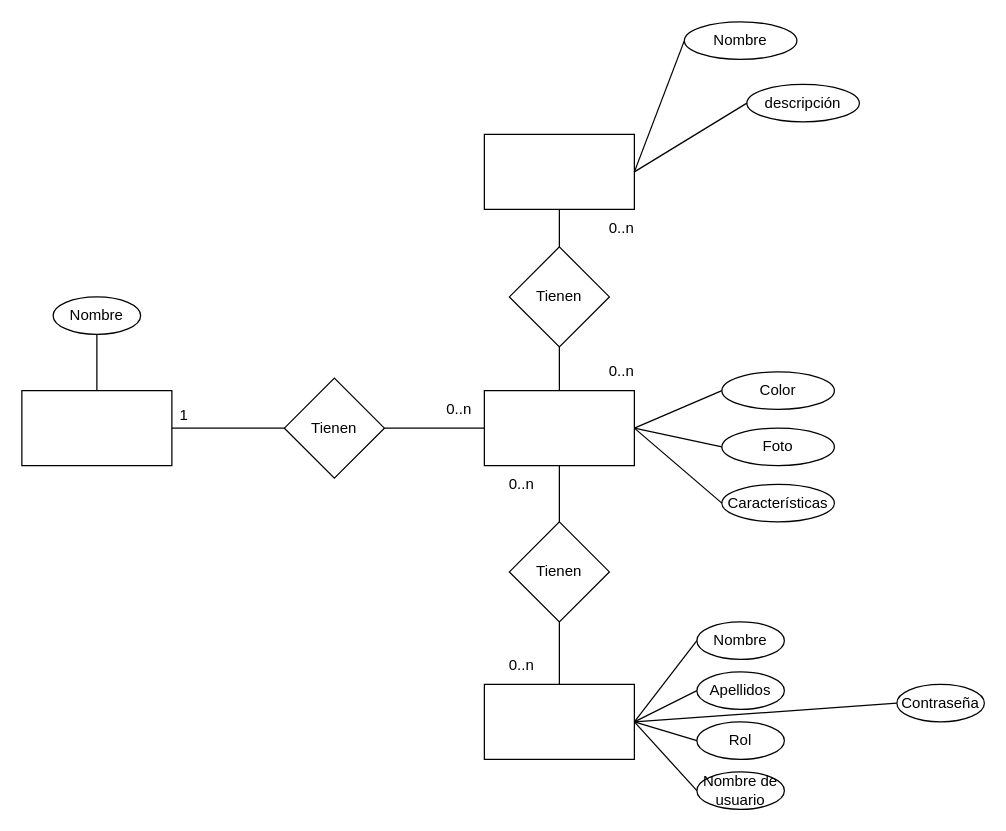
This 1006x831 diagram has some shape labels left out. Here are the shapes that lost their labels. From the top down, the centre of each, then its label:
At (x=558, y=171): "Categorías".
At (x=96, y=427): "Marcas".
At (x=558, y=427): "Productos".
At (x=558, y=721): "Usuarios".
